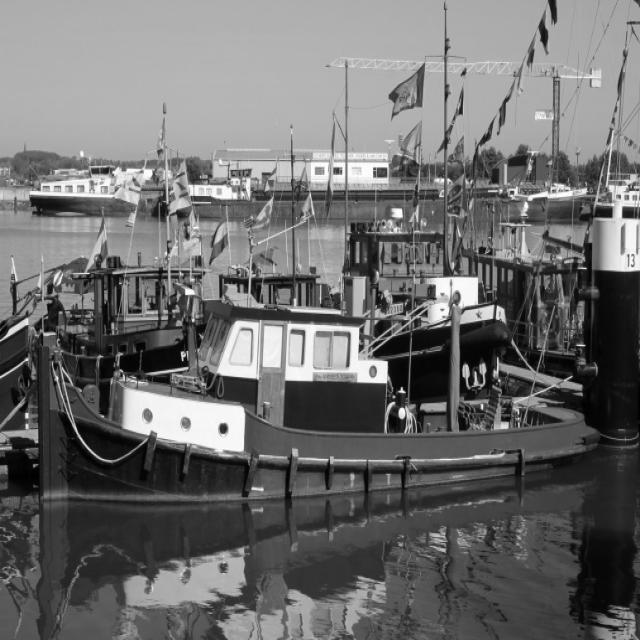tugboat: (34, 121, 603, 512)
